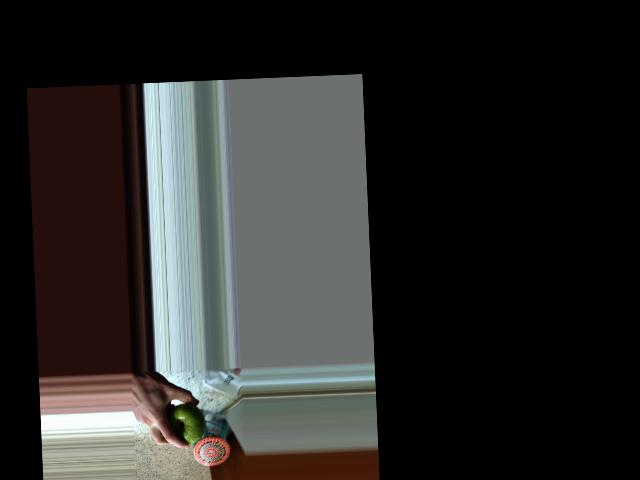apple: (162, 400, 206, 447)
